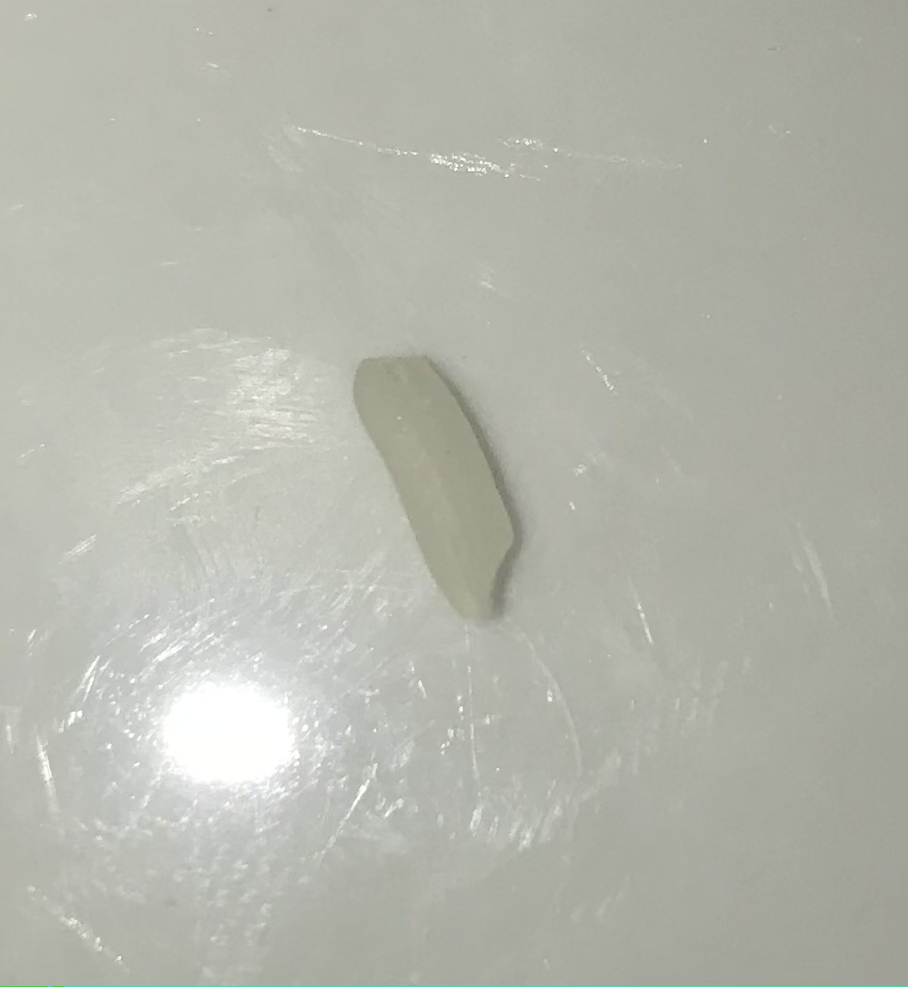Gao Thom Go Cong: (339, 336, 552, 641)
